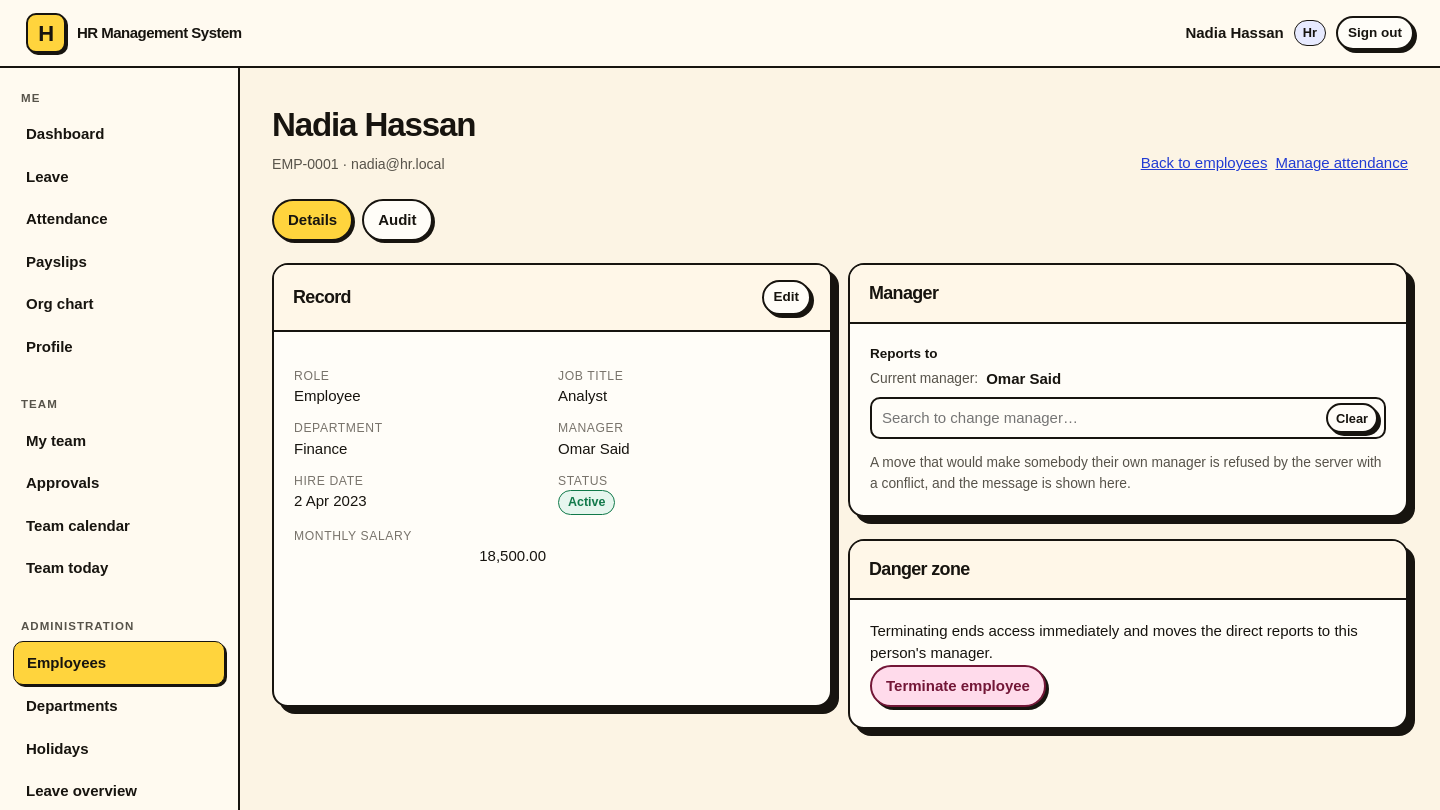
Test: employee detail › asks for confirmation before terminating and only then posts
This screenshot has width=1440, height=810.
Click the button "Terminate employee": [958, 686] box left=870, top=665, right=1046, bottom=707
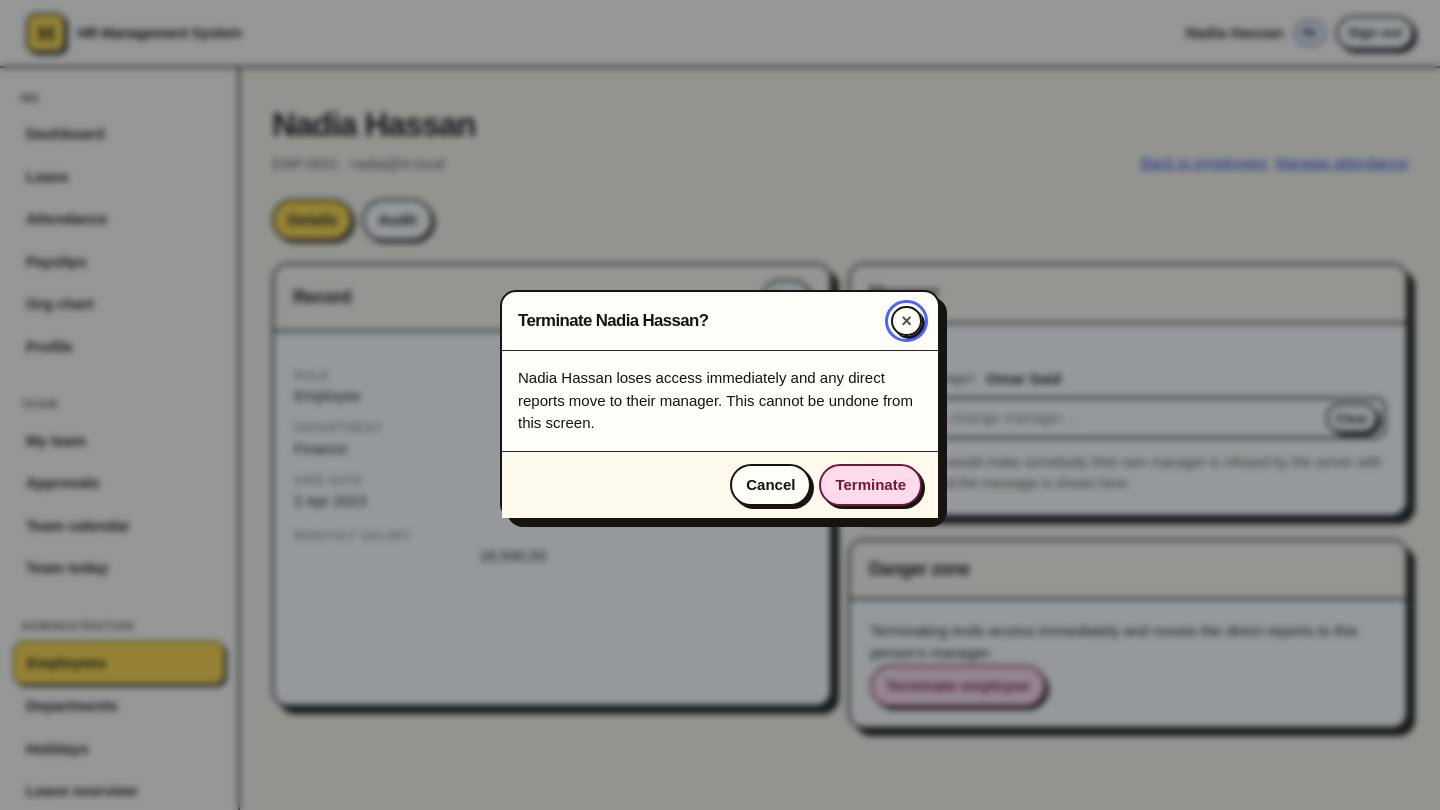
Click the button "Terminate": [871, 485] box left=819, top=464, right=922, bottom=506
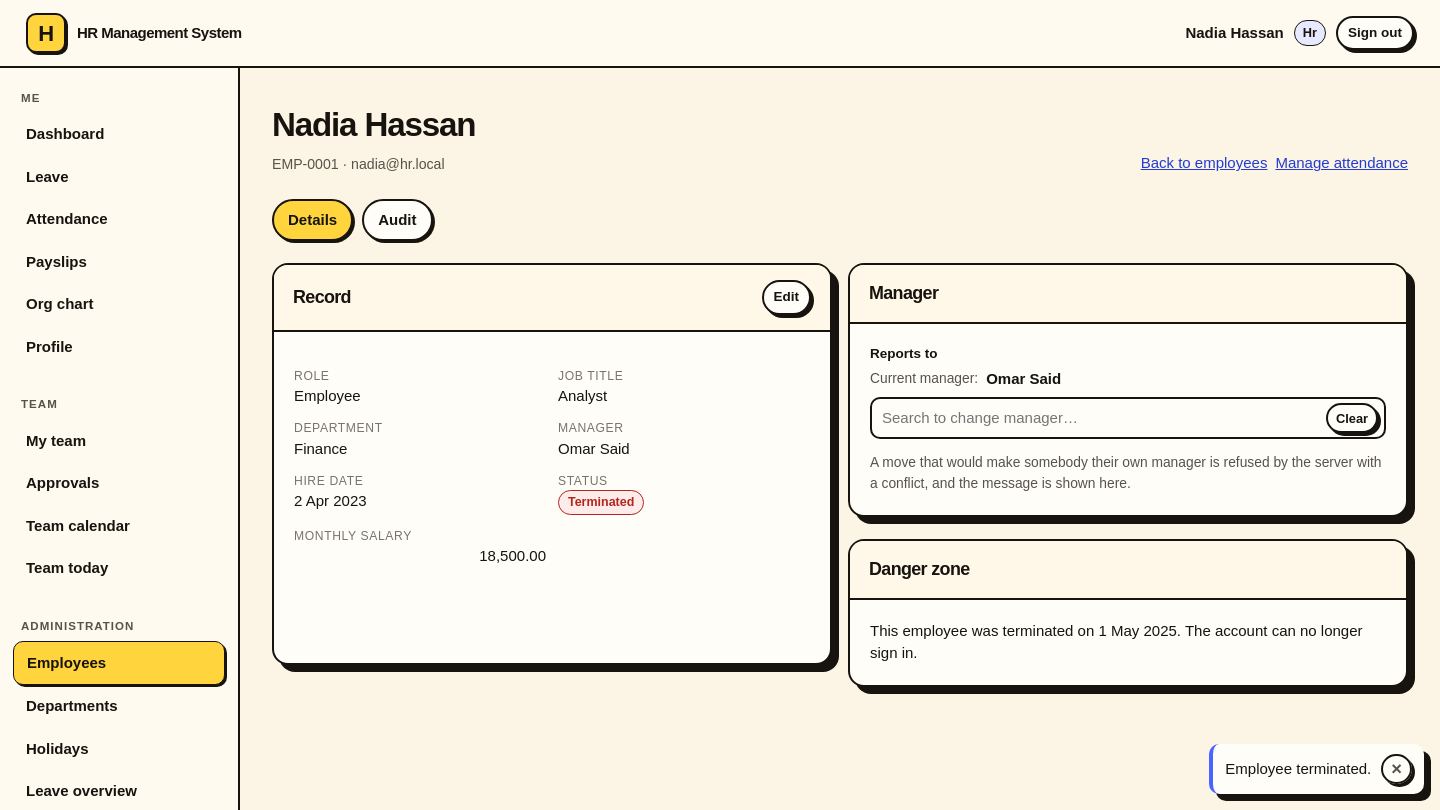
Now the text "Terminated" is shown, box left=558, top=490, right=644, bottom=515
